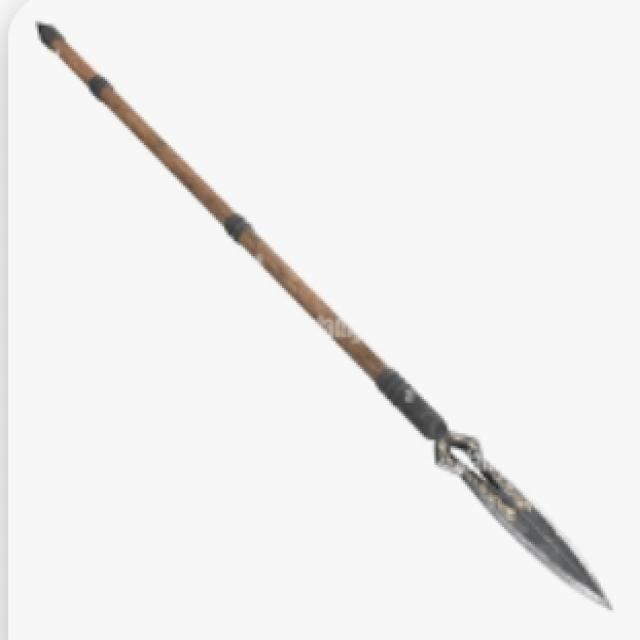spear: (24, 0, 614, 618)
